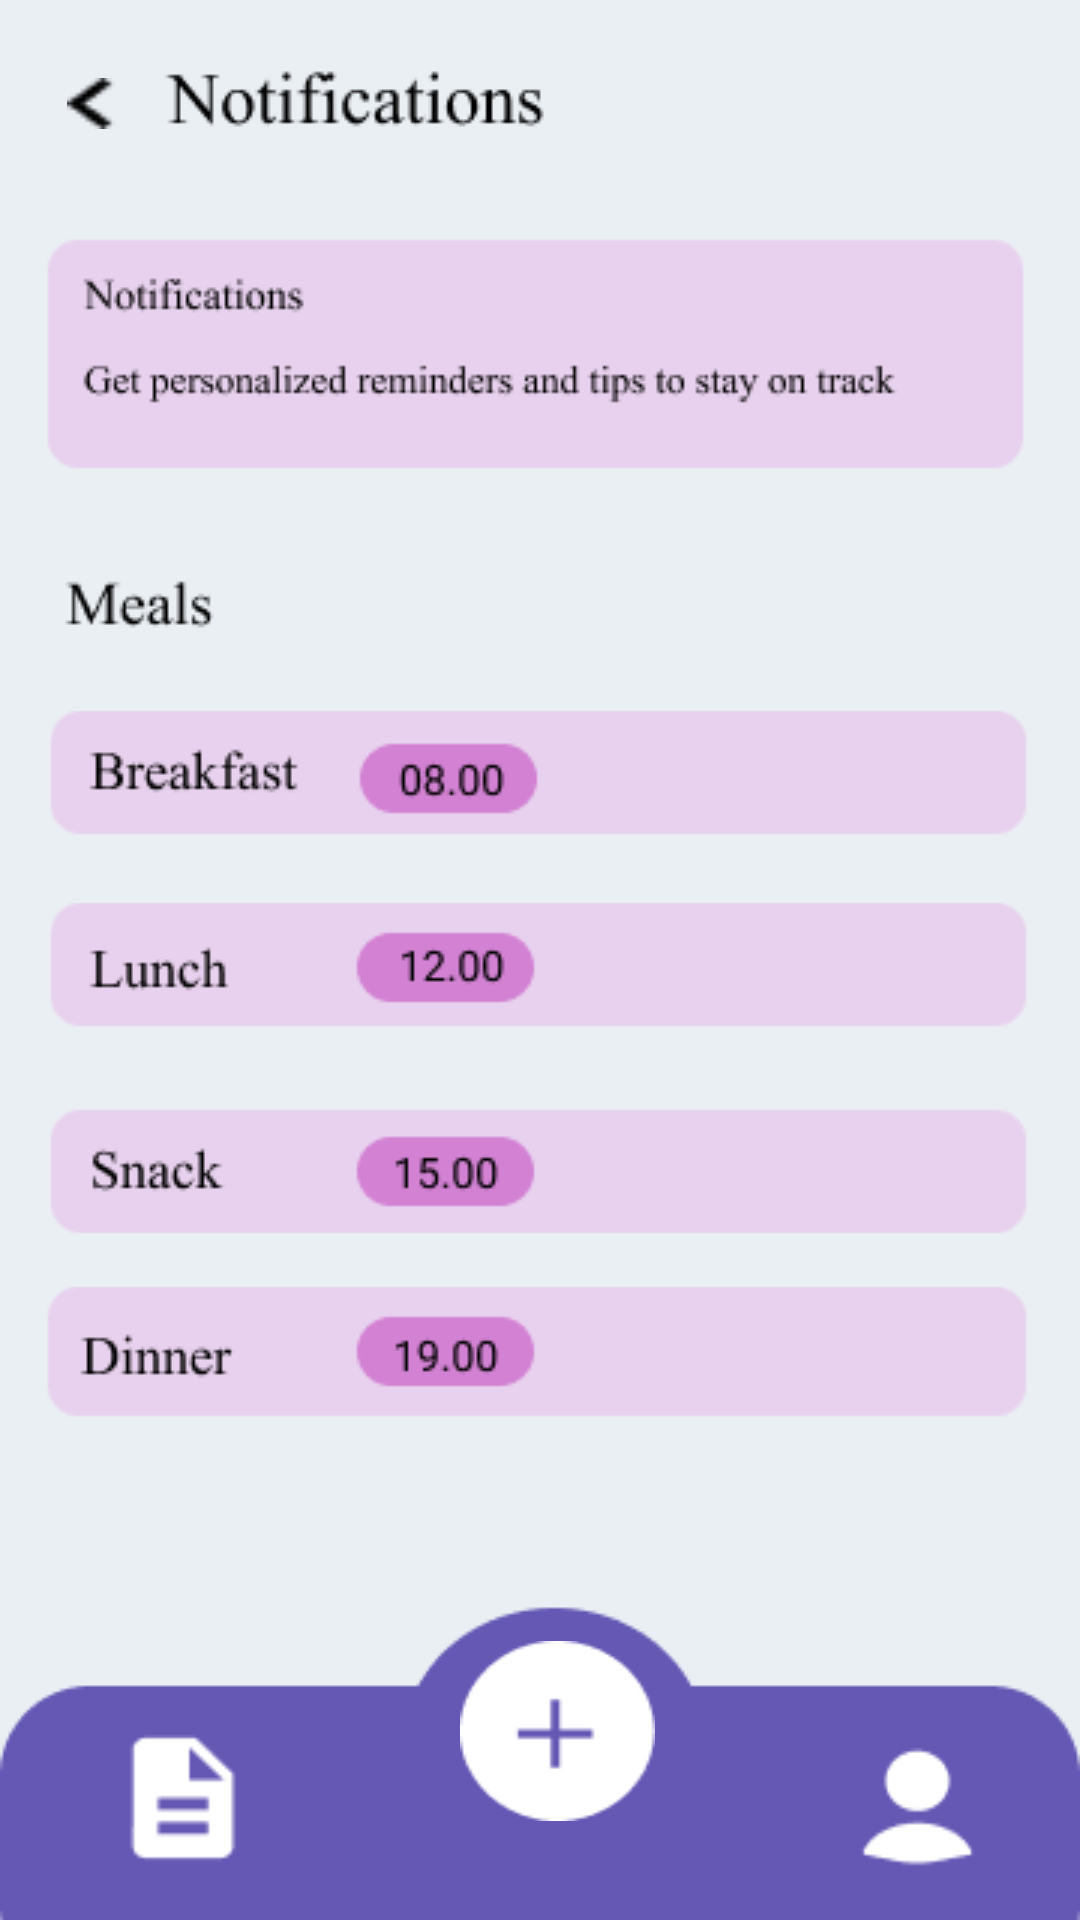

Point at icon controls on the screen. Image size 1080 × 1920, points as (x=x, y=y).
description: (x=182, y=1798)
plus: (x=557, y=1731)
user: (x=917, y=1807)
